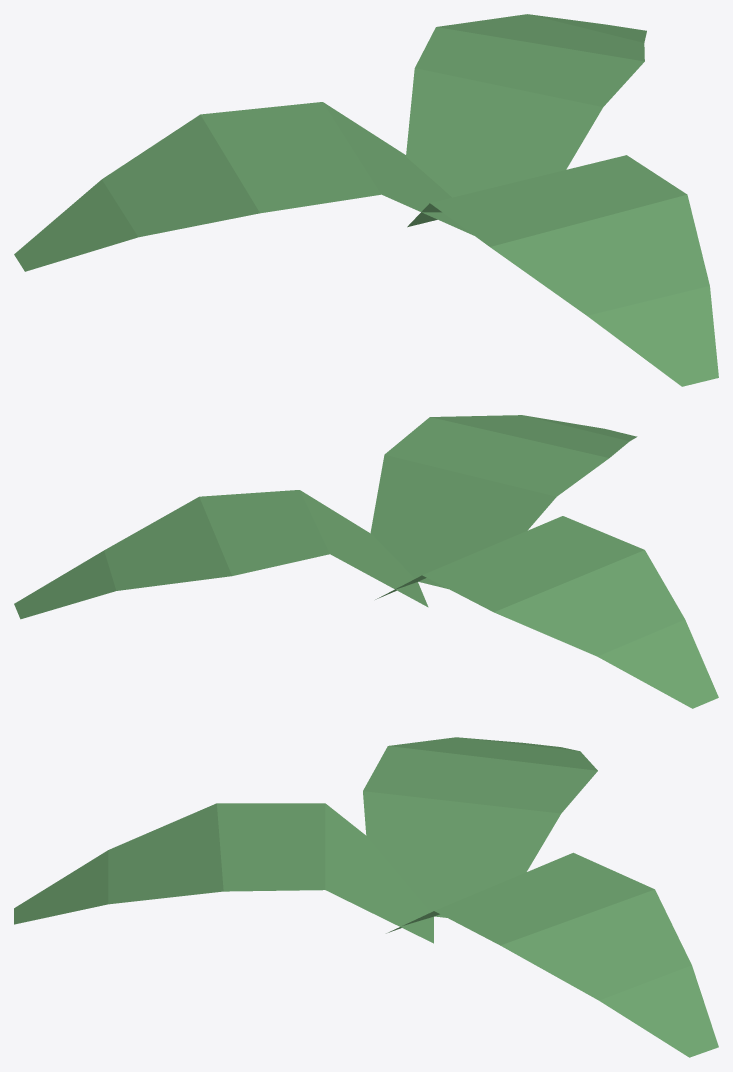
The model's file is Bush.fbx.
3 views of the same model, one above another, from view 1: azimuth 30°, elevation 25°; view 2: azimuth 150°, elevation 25°; view 3: azimuth 270°, elevation 25° (orthographic). The views are drawn at different scales.
Visible parts, largest first — view 1: Plane.044; view 2: Plane.044; view 3: Plane.044.
Boxes of the visible parts, x1,y1,x2,y2 form: Plane.044: (14, 14, 718, 386); Plane.044: (14, 415, 718, 708); Plane.044: (14, 737, 718, 1057).
Size of the model in its own units: 400 by 43.96 by 379.
